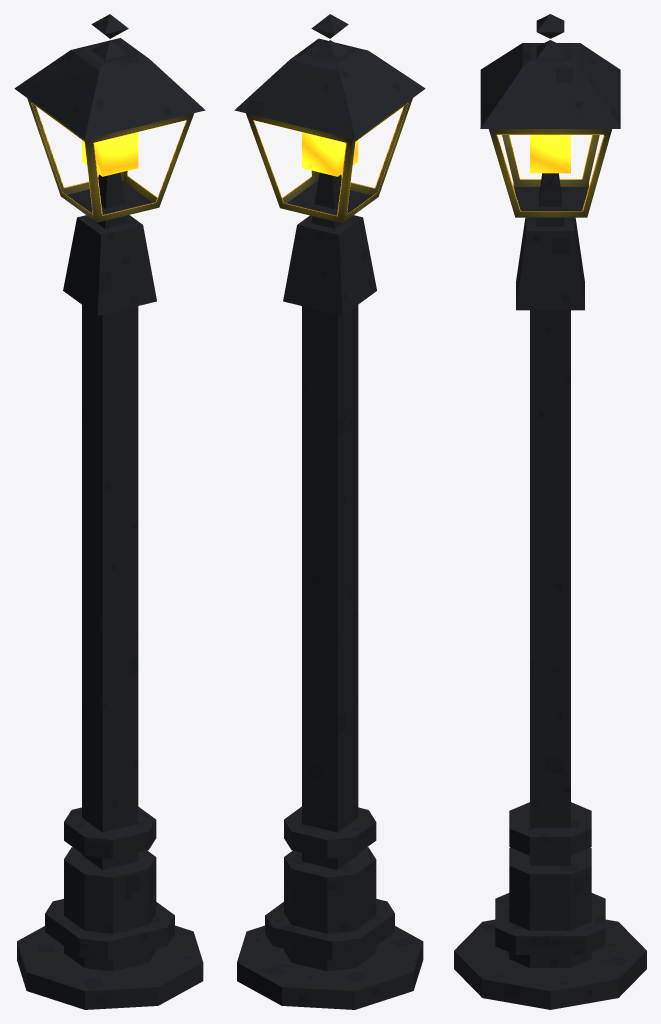
The model's file is C3_street light.FBX.
3 renders of one model, left to right at view 1: azimuth 30°, elevation 25°; view 2: azimuth 150°, elevation 25°; view 3: azimuth 270°, elevation 25°, orthographic.
Parts seen in each view (by area): view 1: Group001, Box002; view 2: Group001, Box002; view 3: Group001, Box002.
Boxes of the visible parts, x1,y1,x2,y2 form: Group001: [14, 14, 205, 1009]; Box002: [82, 132, 138, 176]; Group001: [234, 14, 425, 1009]; Box002: [302, 132, 358, 176]; Group001: [454, 14, 646, 1009]; Box002: [530, 135, 570, 173].
Size of the model in its own units: 55.12 by 302 by 55.12.
Materials: 1 (1 with a texture image).
